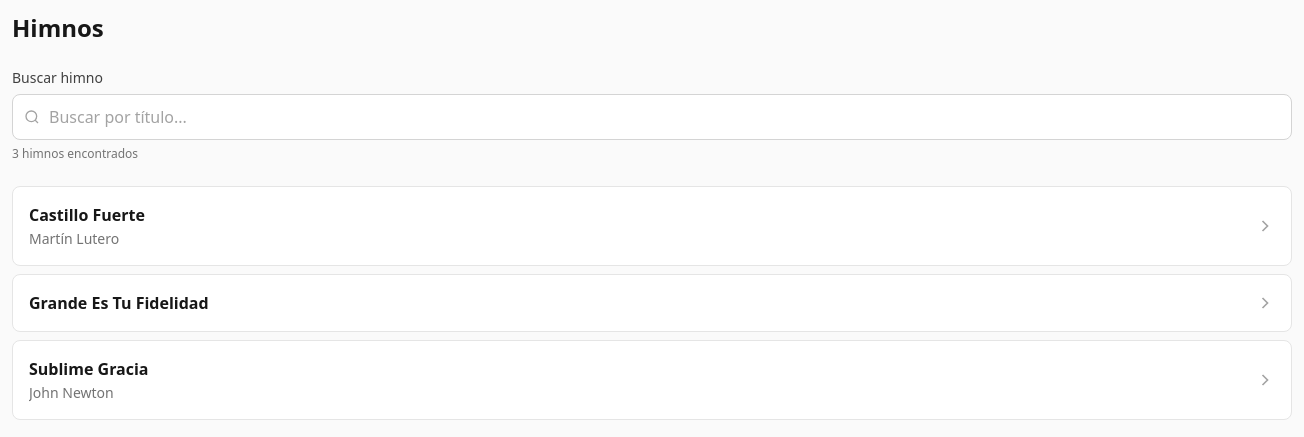
HymnListPage › filtra ignorando tildes: "grande" encuentra "Grande Es Tu Fidelidad"
Expected: the heading "Grande Es Tu Fidelidad" is shown, [29,292,209,314]
In the search field: (652, 117) [12,94,1292,140], type "grande"
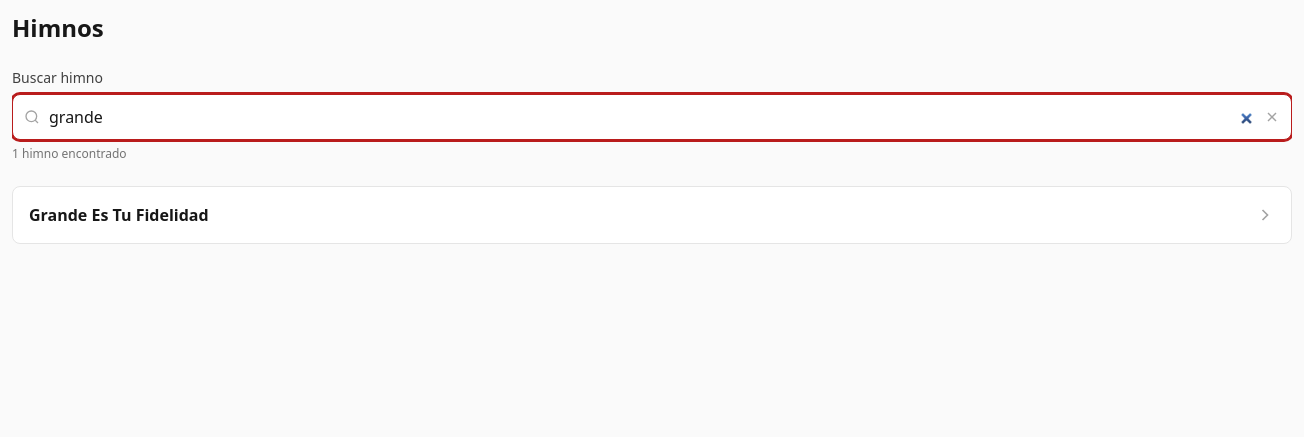
Expected: the heading "Grande Es Tu Fidelidad" is shown, [29,204,209,226]
Now the link "Sublime Gracia" is gone
